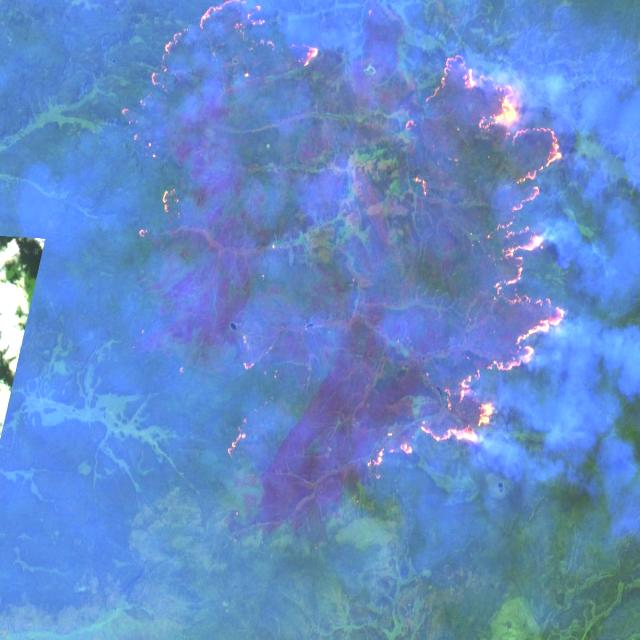fire: (368, 51, 574, 477), (143, 0, 330, 75)
